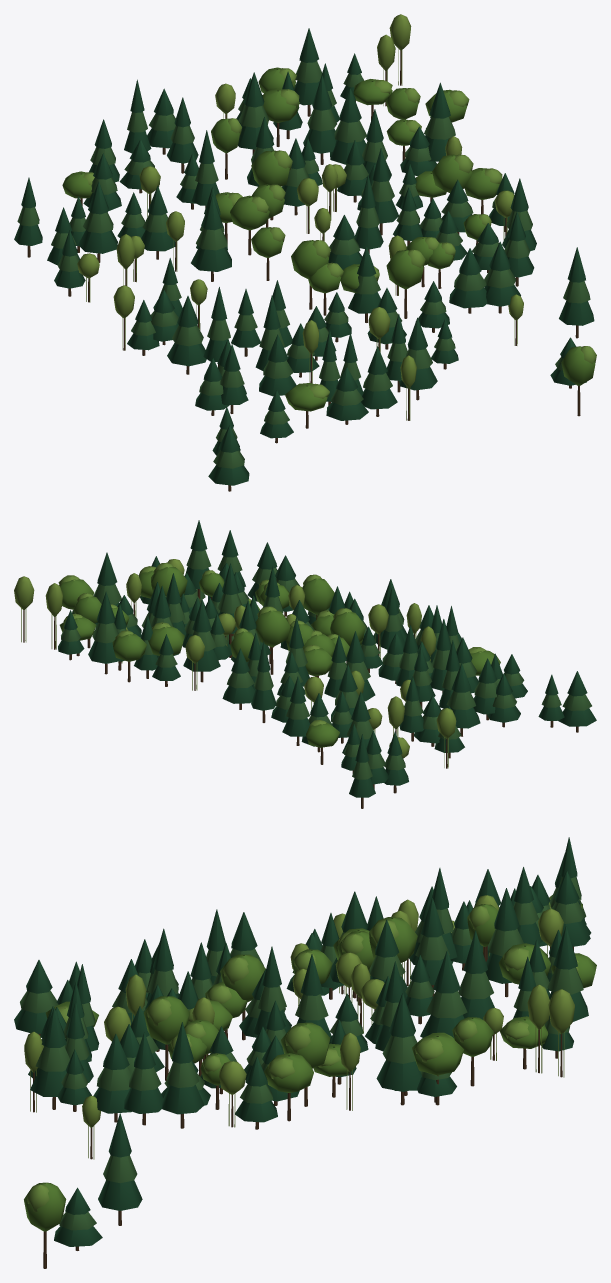
Rendered from forest_5_2.dae.
The picture shows the model from 3 angles, top to bottom: view 1: azimuth 30°, elevation 25°; view 2: azimuth 150°, elevation 25°; view 3: azimuth 270°, elevation 25°; orthographic projection. The views are drawn at different scales.
Parts seen in each view (by area): view 1: forest_5_2; view 2: forest_5_2; view 3: forest_5_2.
Part boxes in pixels (x1,y1,x2,y2): forest_5_2: (14, 14, 596, 491); forest_5_2: (14, 520, 596, 808); forest_5_2: (14, 837, 596, 1268).
Size of the model in its own units: 135 by 133 by 76.95.
